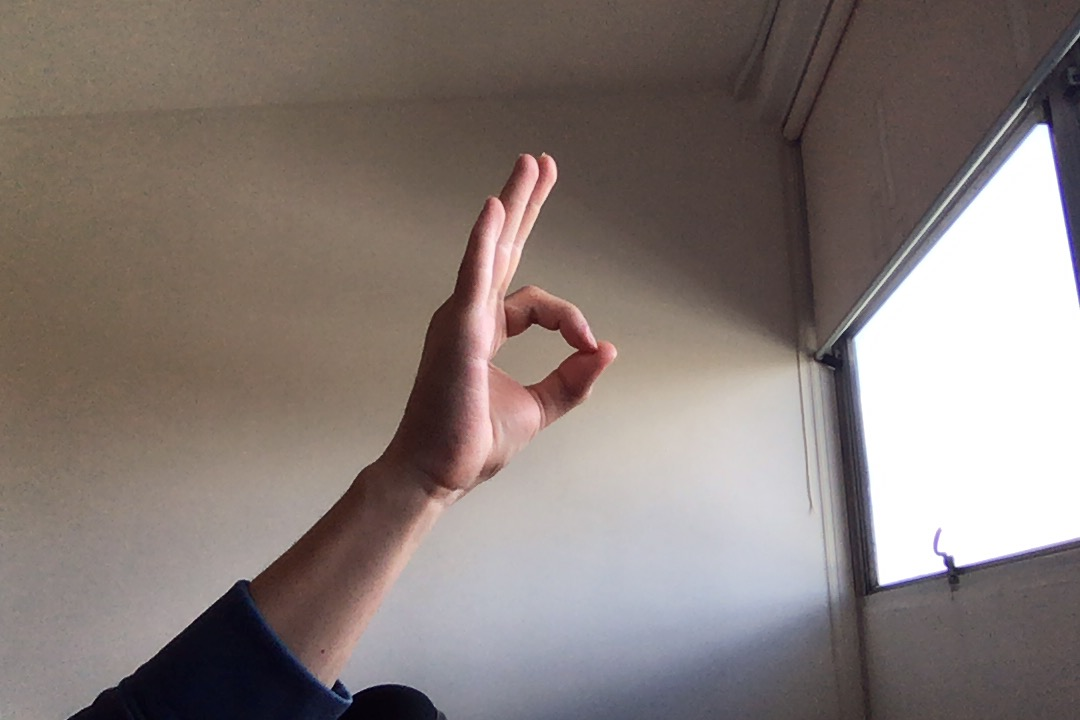oksign: (411, 143, 628, 497)
